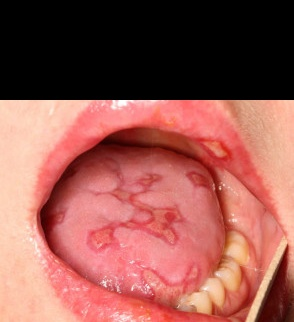SJS-TEN: (87, 160, 195, 255), (135, 255, 213, 322), (35, 198, 85, 245), (195, 126, 238, 168), (185, 168, 218, 195)
